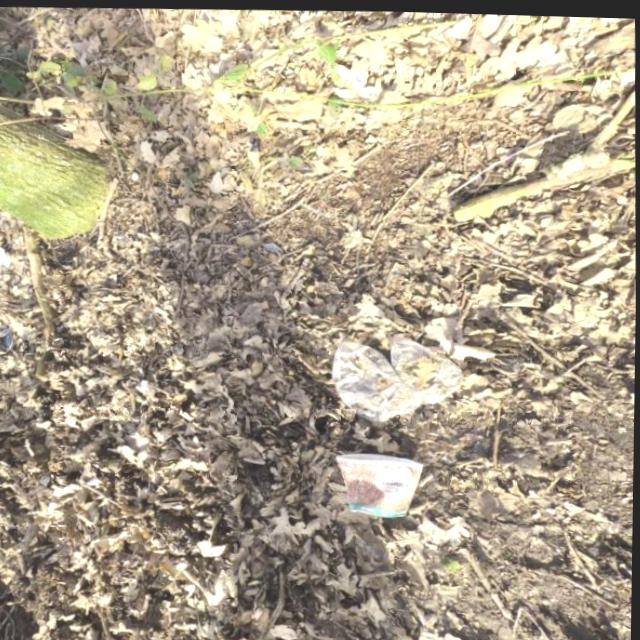Cup: (333, 443, 435, 515)
